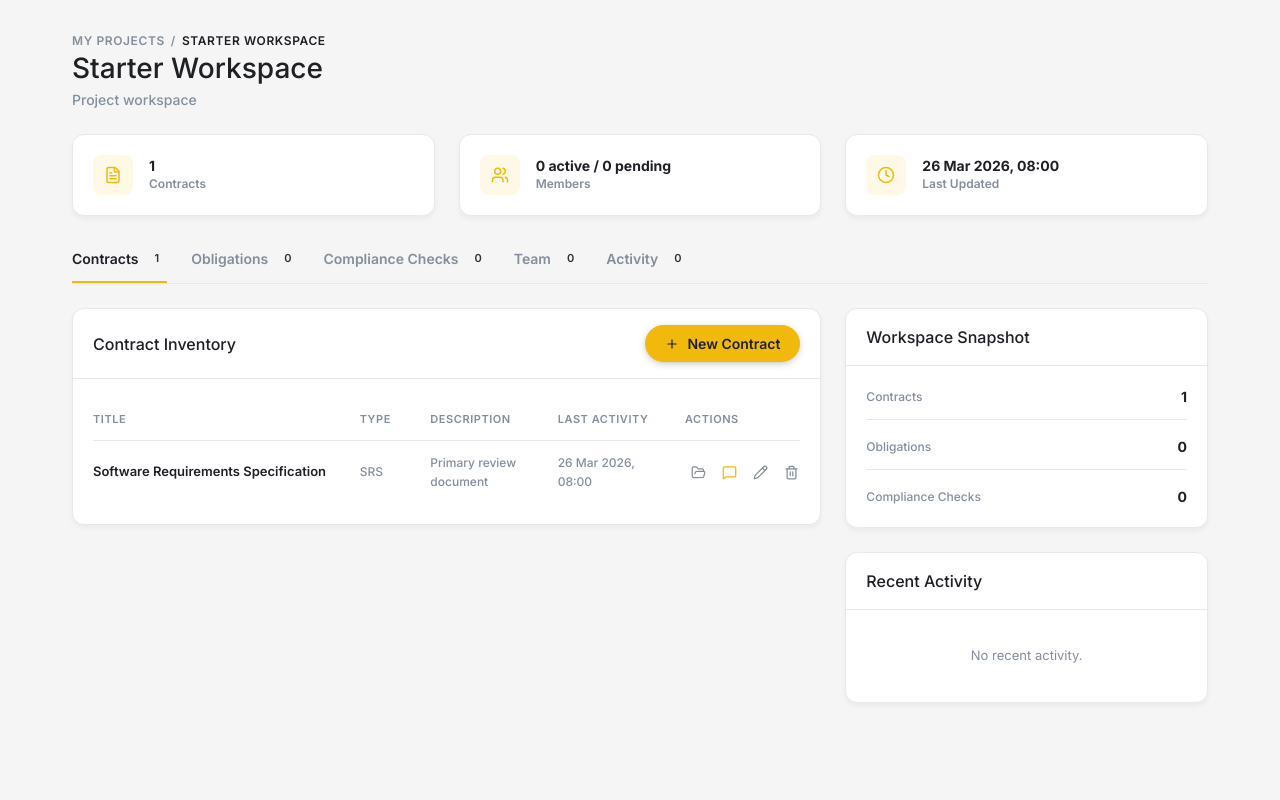
ProjectDetailPage › creates a document from the project workspace and refreshes the inventory
This screenshot has width=1280, height=800.
Expected: the heading "Contract Inventory" is shown, [93, 332, 236, 356]
Click the button "New Contract" at (723, 344), box [645, 325, 800, 362]
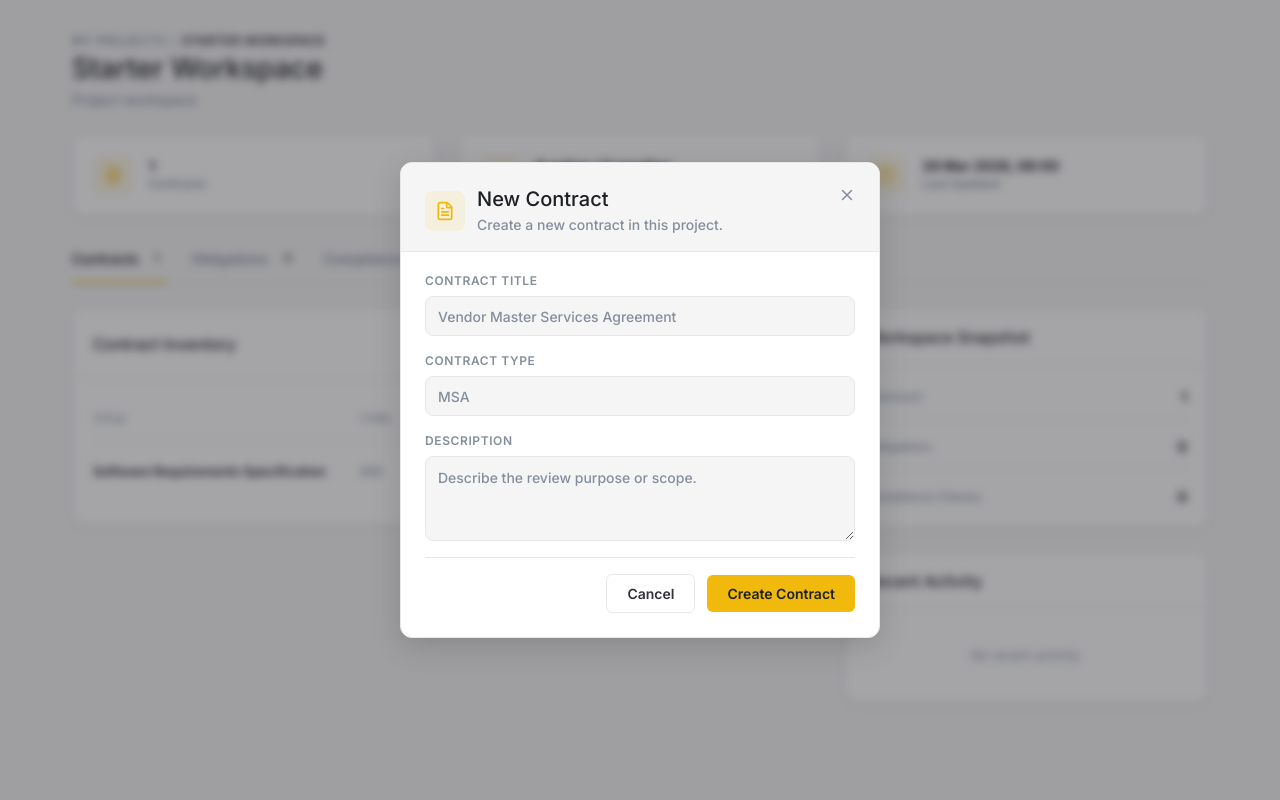
Type "Architecture Spec" into the field named "contract title" at (640, 316), box [425, 296, 855, 336]
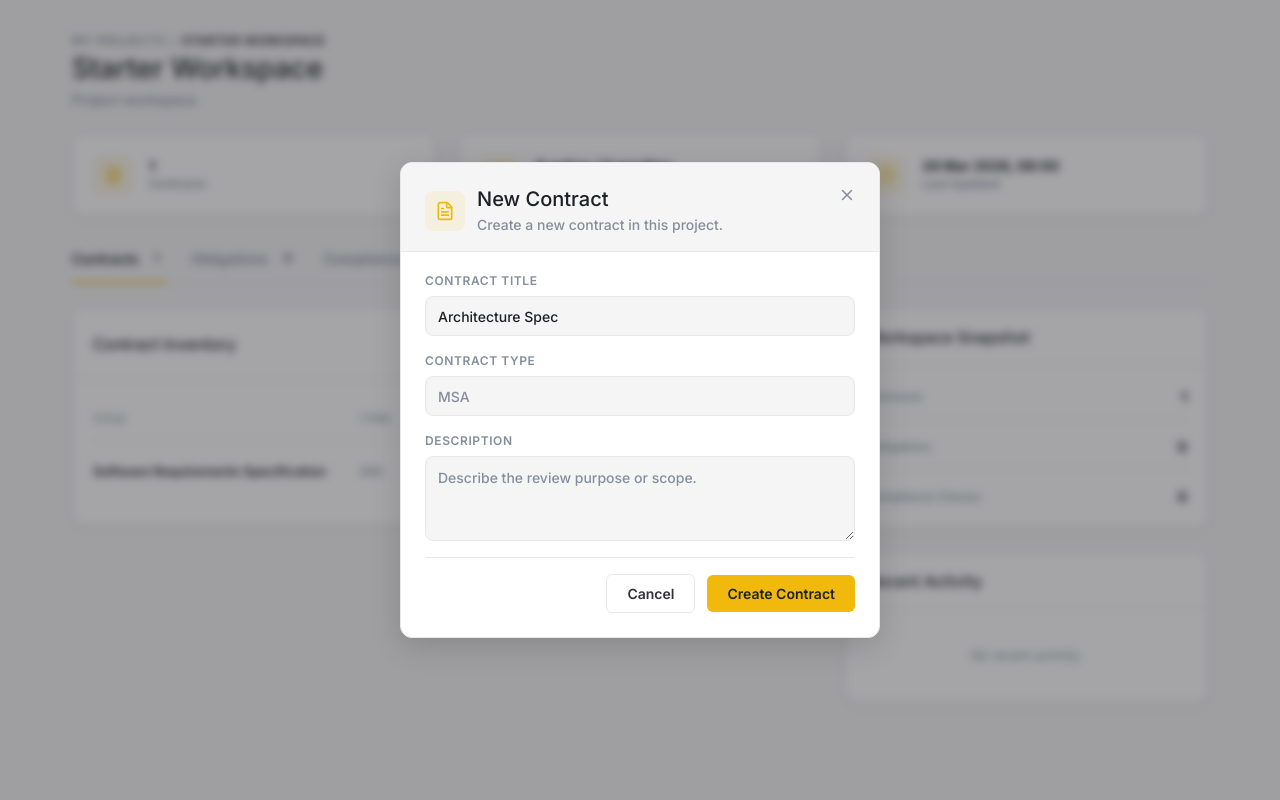
Type "SPEC" into the field named "contract type" at (640, 396), box [425, 376, 855, 416]
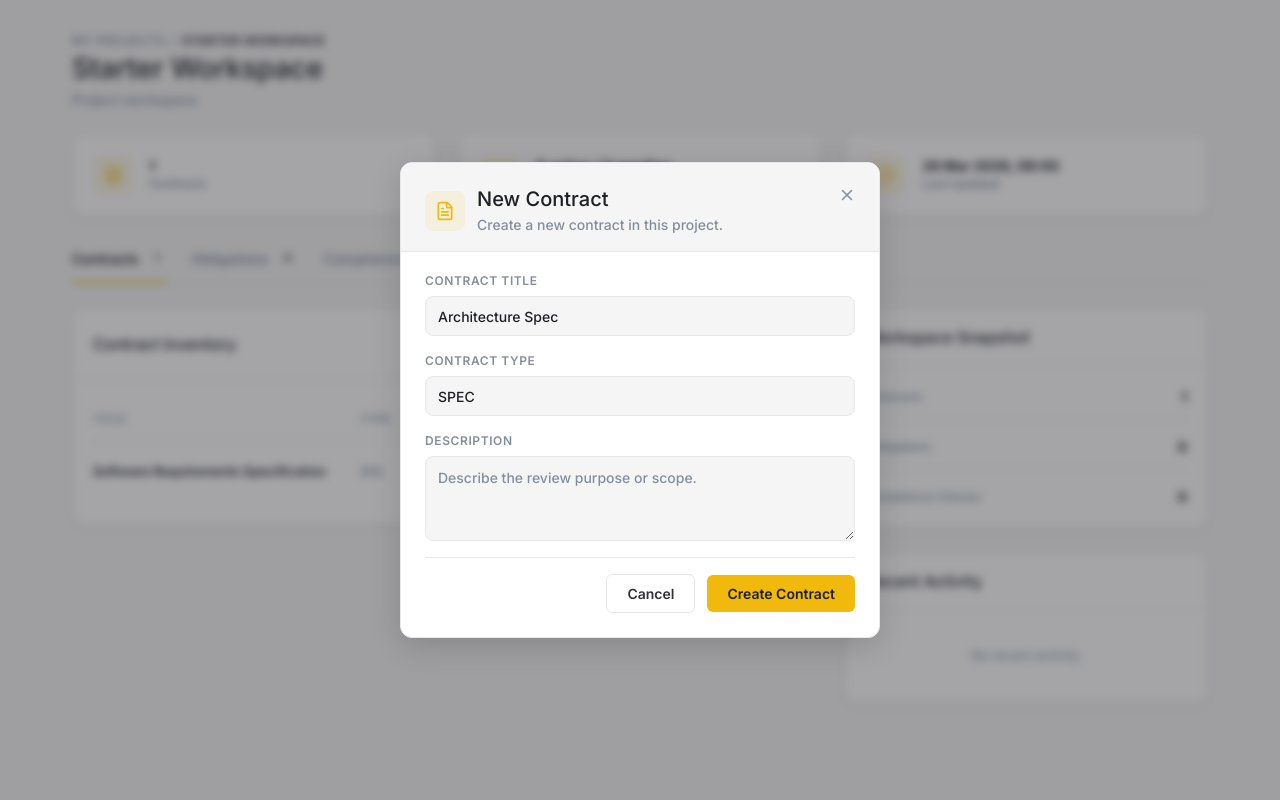
Type "Created inside project workspace" into the text box named "description" at (640, 498), box [425, 456, 855, 541]
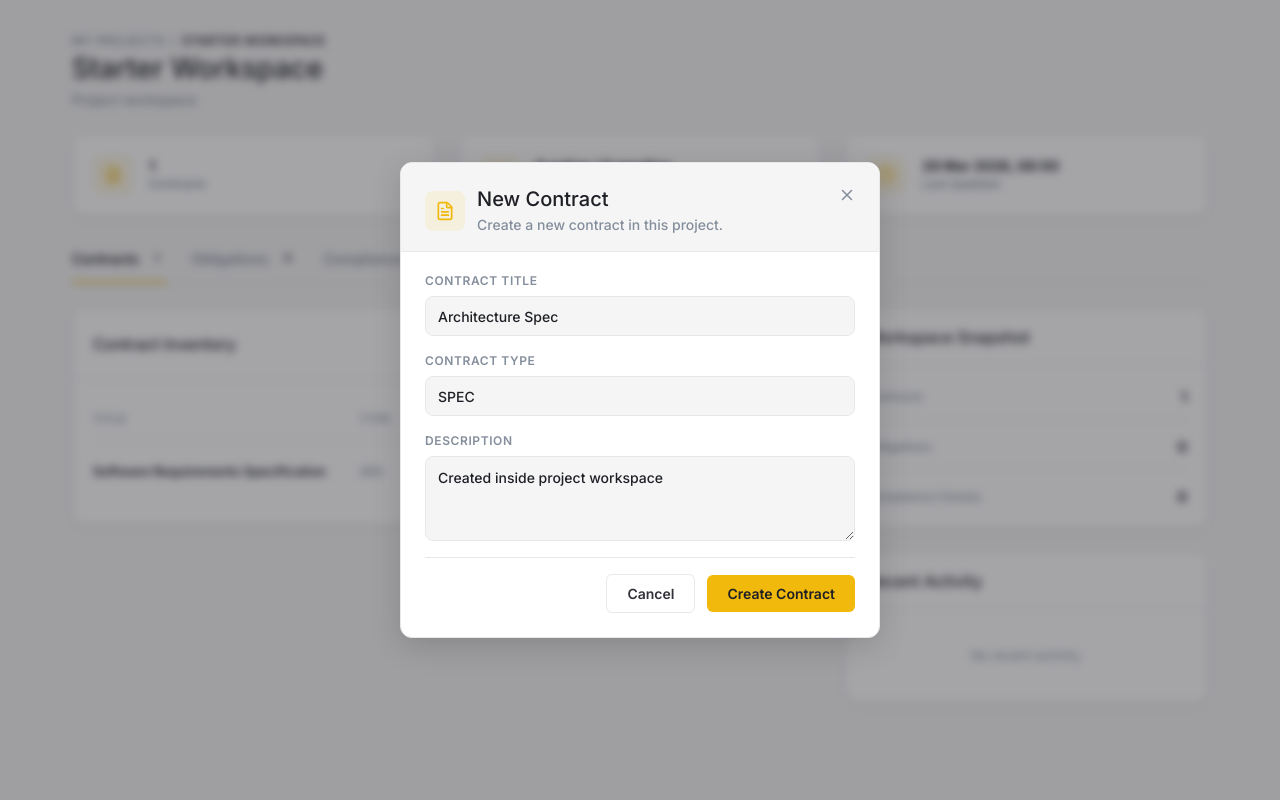
Click the button "Create Contract" at (781, 594), box [708, 575, 855, 612]
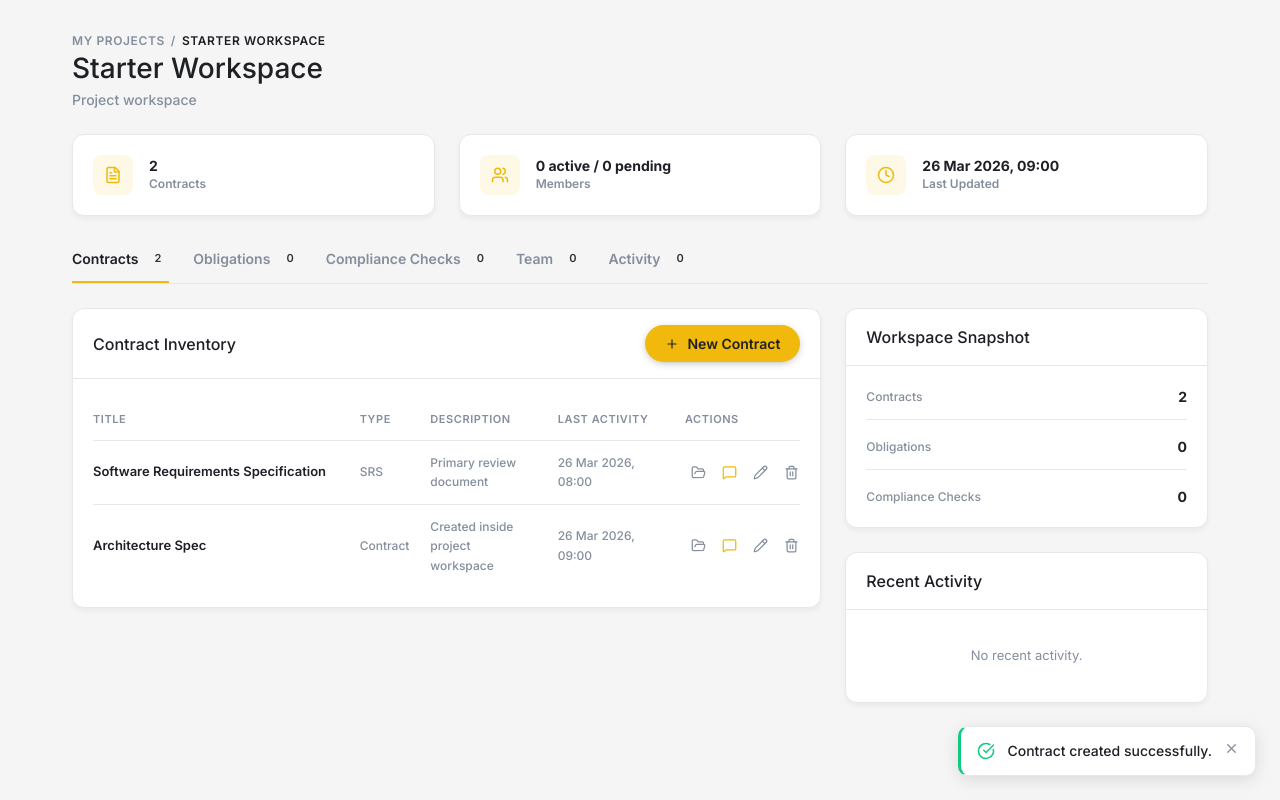
Now the link "Architecture Spec" is shown, box [93, 537, 206, 553]
Now the text "Created inside project workspace" is shown, box [430, 518, 513, 572]
